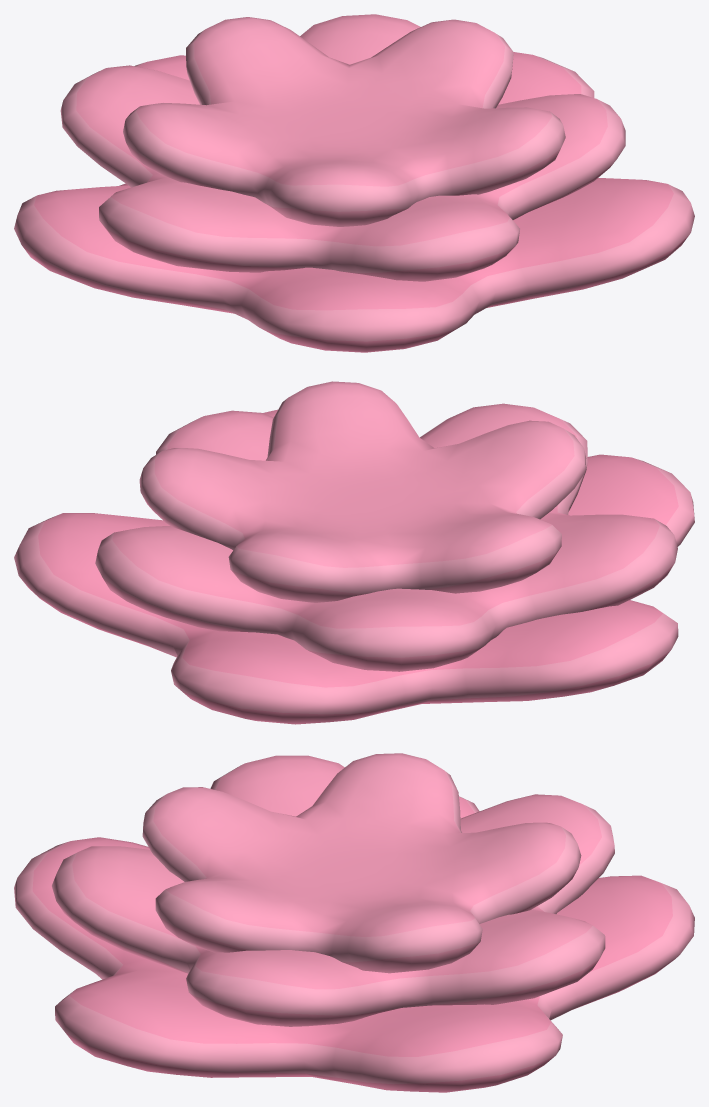
File: water_lily_3.fbx
3 renders of one model, top to bottom at view 1: azimuth 30°, elevation 25°; view 2: azimuth 150°, elevation 25°; view 3: azimuth 270°, elevation 25°, orthographic. The views are drawn at different scales.
Parts seen in each view (by area): view 1: water_lily_3; view 2: water_lily_3; view 3: water_lily_3.
Part boxes in pixels (x1,y1,x2,y2): water_lily_3: [14, 14, 694, 352]; water_lily_3: [14, 381, 694, 724]; water_lily_3: [14, 753, 694, 1092].
Size of the model in its own units: 100 by 27.84 by 99.86.
1 material, 1 textured.
